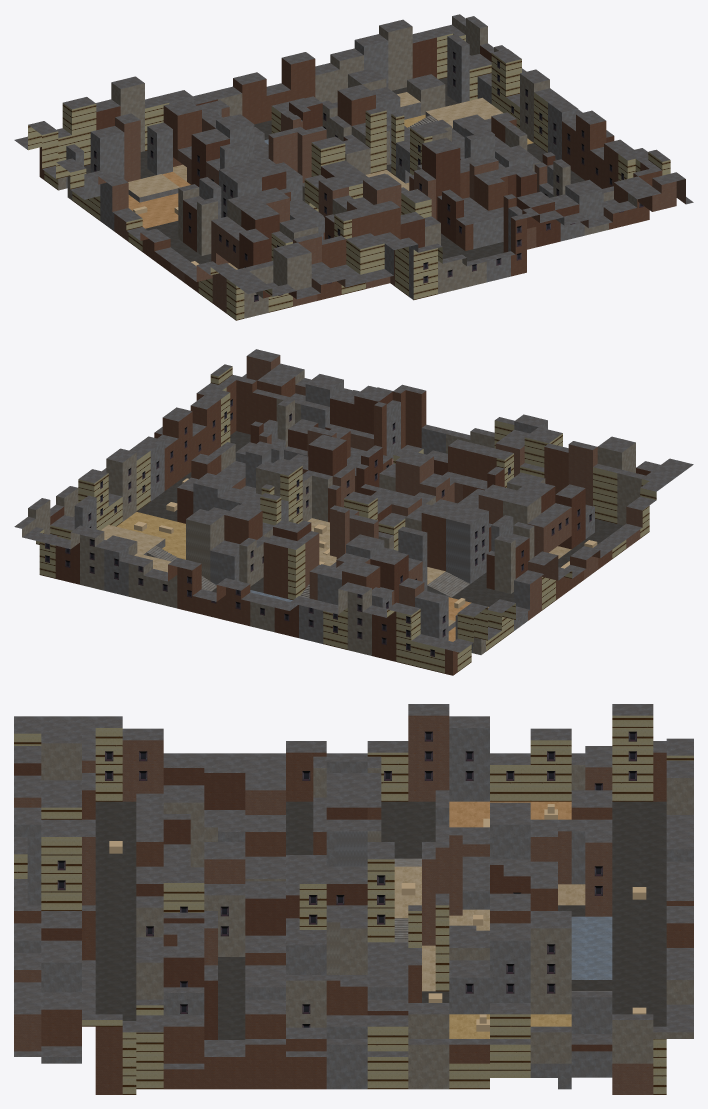
Rendered from oldquarter.glb.
3 renders of one model, top to bottom at view 1: azimuth 30°, elevation 25°; view 2: azimuth 150°, elevation 25°; view 3: azimuth 270°, elevation 25°, orthographic. The views are drawn at different scales.
Parts seen in each view (by area): view 1: Quarter, Windows; view 2: Quarter, Windows, Steps; view 3: Quarter, Windows, Steps.
Boxes of the visible parts, box(x1,y1,x2,y2) form: Quarter: box(14, 14, 693, 320); Windows: box(94, 51, 643, 301); Quarter: box(14, 349, 693, 675); Windows: box(45, 399, 591, 656); Steps: box(146, 546, 469, 598); Quarter: box(14, 704, 693, 1094); Windows: box(57, 731, 636, 1027); Steps: box(394, 858, 611, 991).
Bounding box in the file's own units: 110 × 19 × 100.
20 materials, 19 textured.
